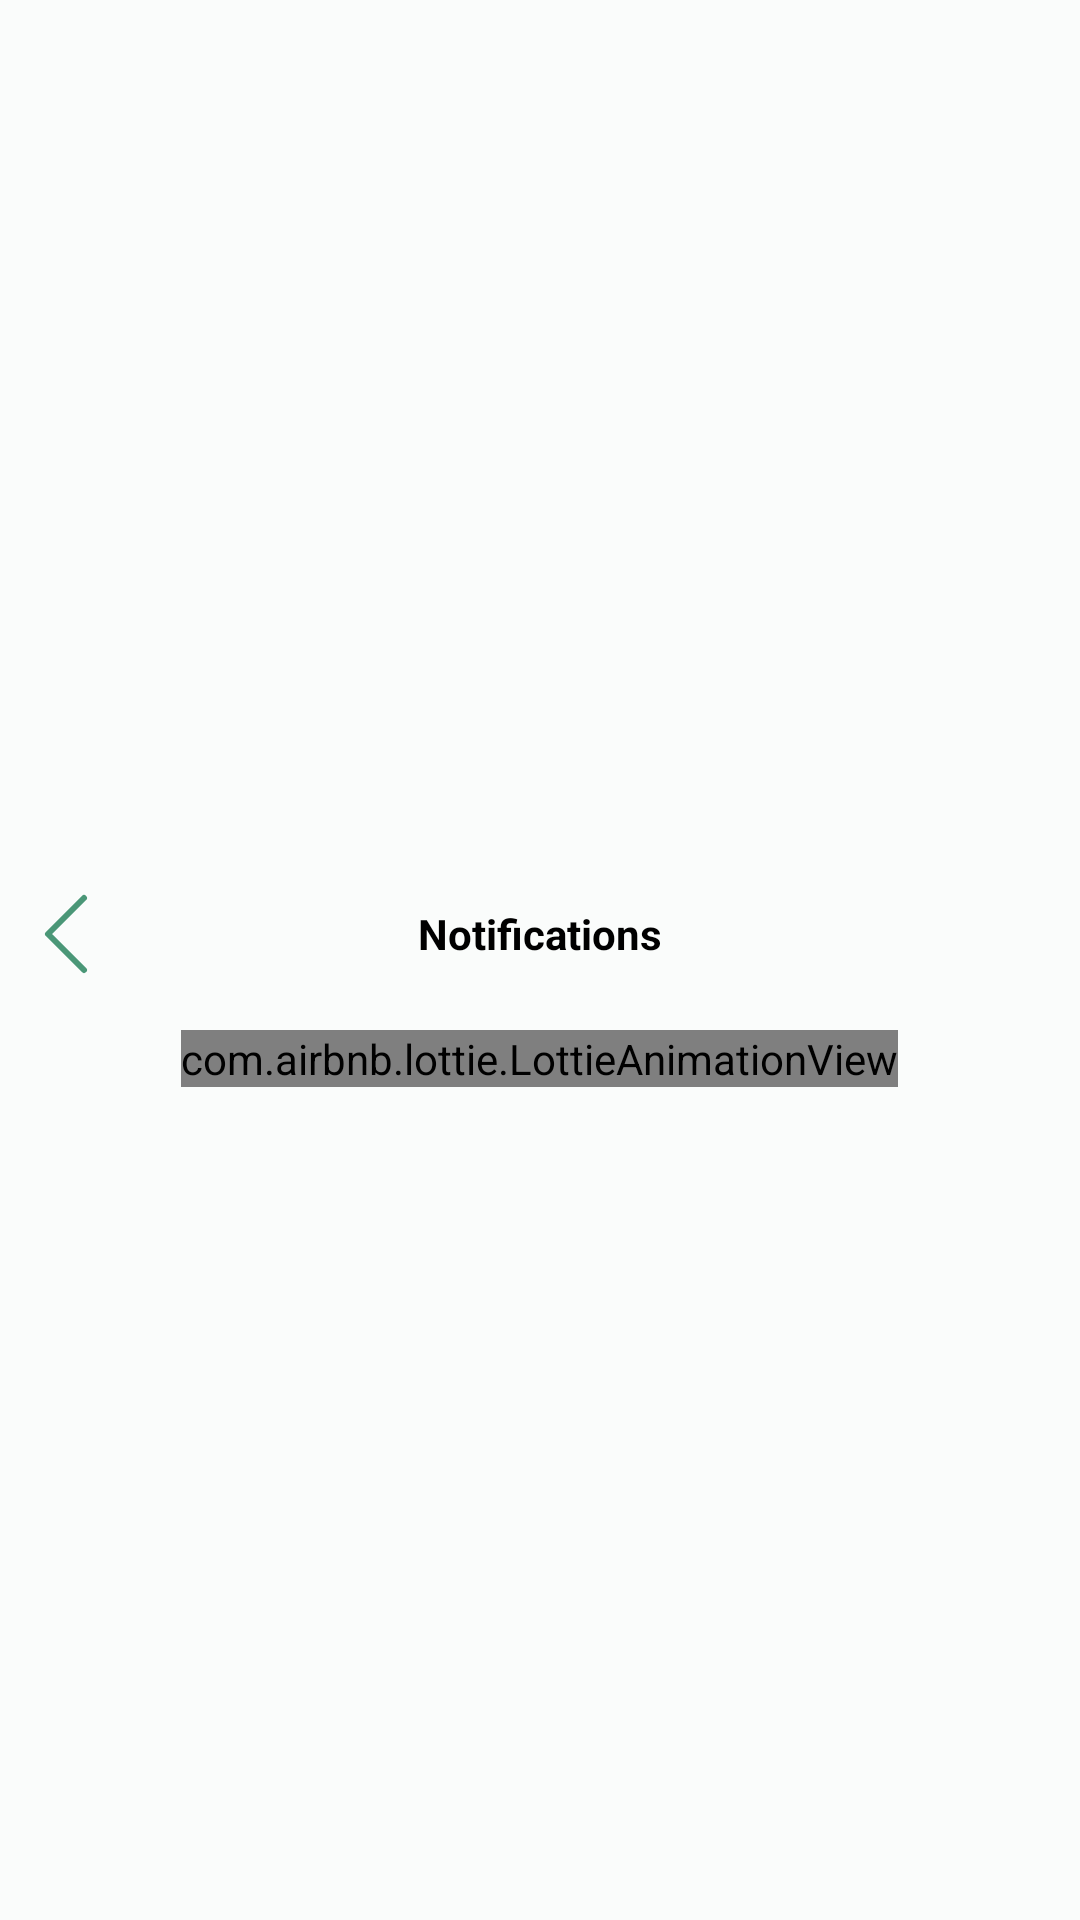

Named icons in this screenshot (1080×1920) and their bounding boxes, (x1,y1,x2,y2):
left arrow: (45,894,87,973)
